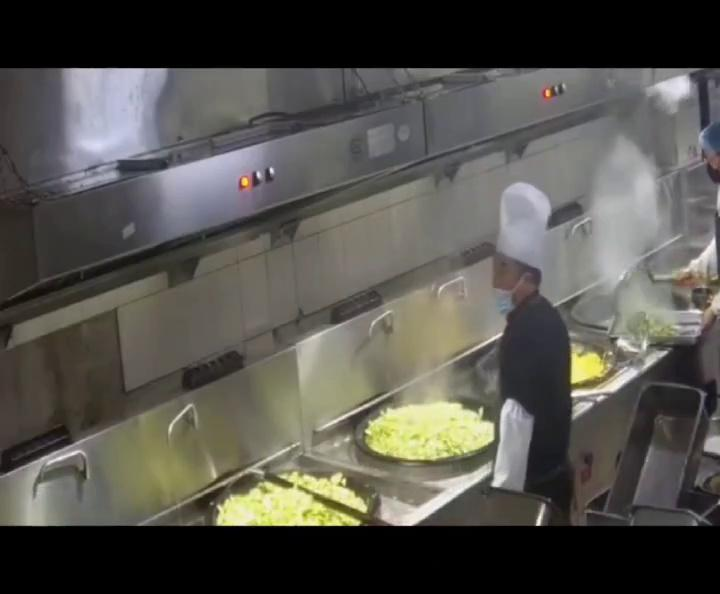hairnet: (488, 268, 532, 315)
